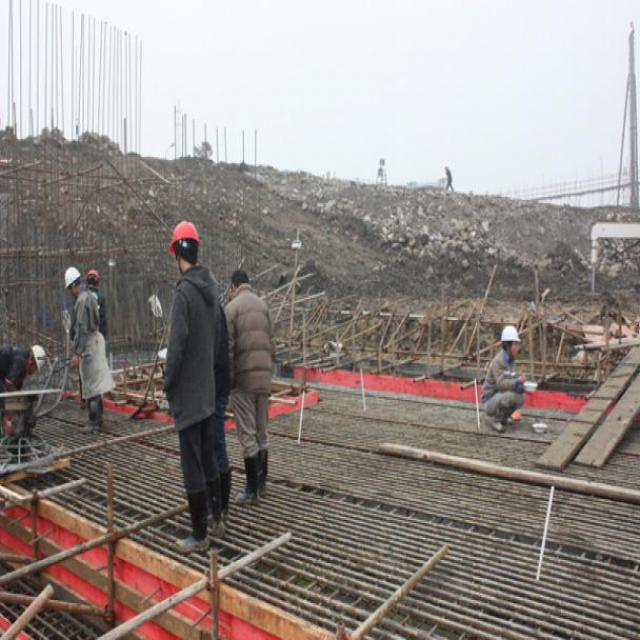helmet: (168, 213, 201, 267), (495, 318, 522, 356), (54, 259, 83, 292), (81, 252, 98, 294)
